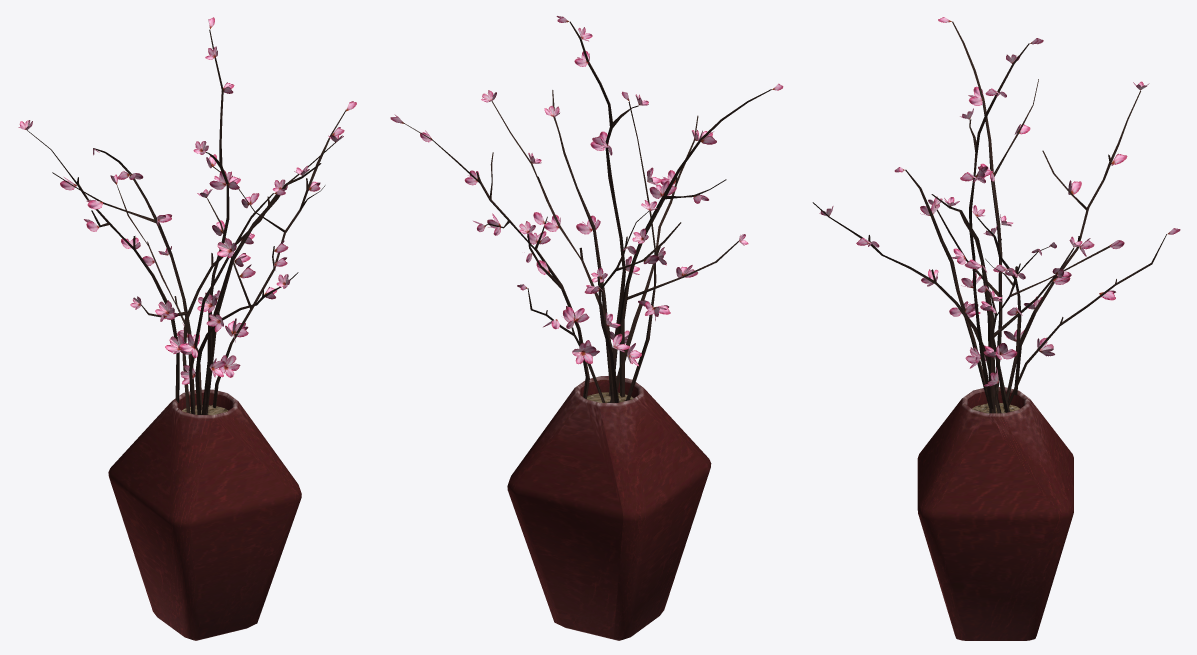
The model's file is Vase2.a.fbx.
3 views of the same model, side by side, from view 1: azimuth 30°, elevation 25°; view 2: azimuth 150°, elevation 25°; view 3: azimuth 270°, elevation 25° (orthographic). The views are drawn at different scales.
Visible parts, largest first — view 1: Group 0; view 2: Group 0; view 3: Group 0.
Part boxes in pixels (box(x1,y1,x2,y2)): Group 0: box(18, 17, 356, 640); Group 0: box(390, 16, 783, 640); Group 0: box(812, 17, 1180, 640).
Size of the model in its own units: 124 by 218 by 120.
2 materials, 2 textured.
